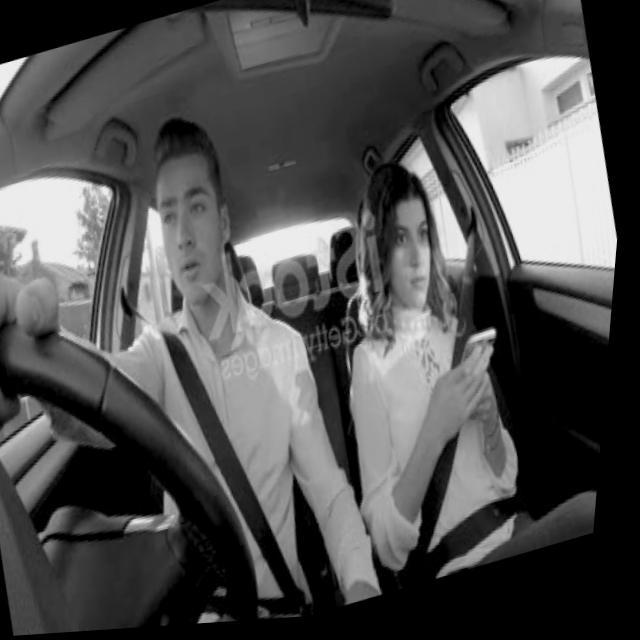PhoneCall: (458, 330, 514, 406)
